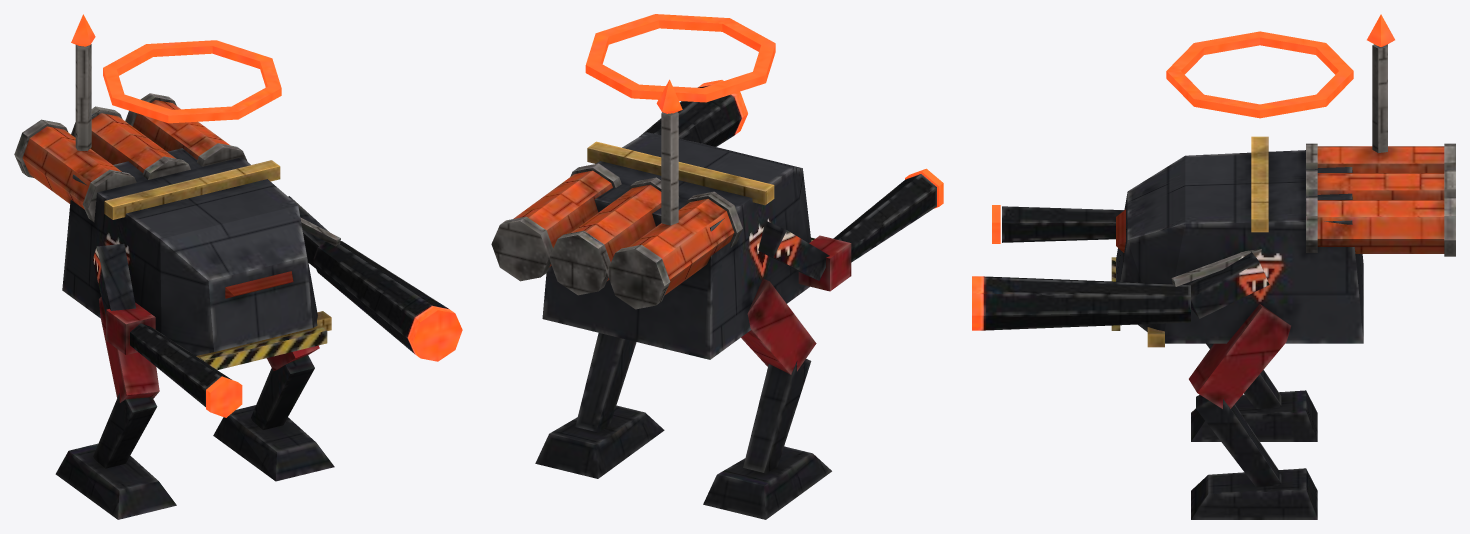
Rendered from u_pyro4_e.glb.
The picture shows the model from 3 angles, left to right: view 1: azimuth 30°, elevation 25°; view 2: azimuth 150°, elevation 25°; view 3: azimuth 270°, elevation 25°; orthographic projection. The views are drawn at different scales.
Visible parts, largest first — view 1: u_pyro4_e; view 2: u_pyro4_e; view 3: u_pyro4_e.
Boxes of the visible parts, box(x1,y1,x2,y2) form: u_pyro4_e: box(14, 14, 462, 519); u_pyro4_e: box(491, 14, 943, 519); u_pyro4_e: box(972, 14, 1455, 519).
Size of the model in its own units: 1.26 by 2.1 by 2.15.
1 material, 1 textured.
